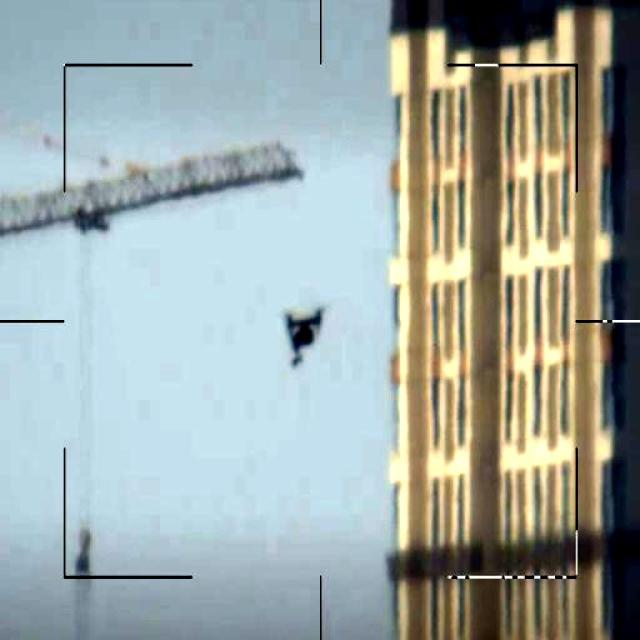bird: (278, 301, 329, 372)
